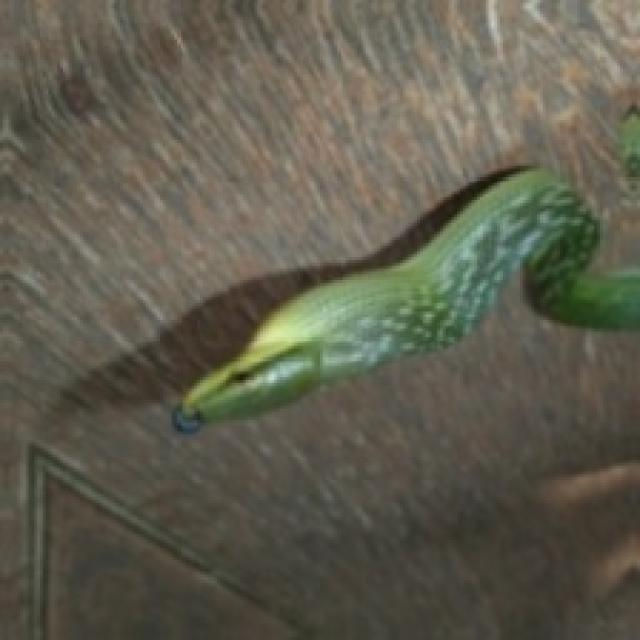red-tailed green ratsnake: (174, 169, 637, 429), (177, 169, 597, 429)
